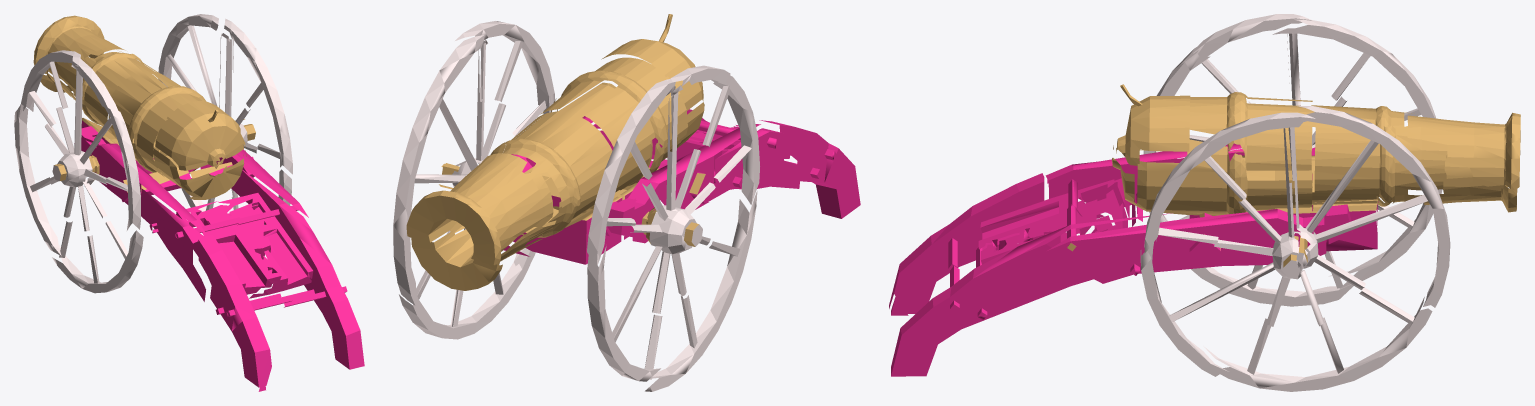
File: cannon-explosion.glb
3 views of the same model, side by side, from view 1: azimuth 30°, elevation 25°; view 2: azimuth 150°, elevation 25°; view 3: azimuth 270°, elevation 25° (orthographic). The views are drawn at different scales.
Visible parts, largest first — view 1: cannon.008, cannon.052, cannon.002, cannon.007, cannon.048, cannon.016, cannon.027, cannon.055, cannon.030, cannon.013, cannon.070, cannon.022 (+21 smaller); view 2: cannon.016, cannon.030, cannon.010, cannon.007, cannon.052, cannon.006, cannon.022, cannon.038, cannon.057, cannon.019, cannon.070, cannon.055 (+25 smaller); view 3: cannon.008, cannon.034, cannon.003, cannon.052, cannon.016, cannon.024, cannon.007, cannon.010, cannon.002, cannon.057, cannon.013, cannon.048 (+21 smaller).
Boxes of the visible parts, x1,y1,x2,y2 form: cannon.008: (242, 170, 364, 369); cannon.052: (198, 234, 271, 387); cannon.002: (155, 101, 243, 170); cannon.007: (105, 71, 206, 162); cannon.048: (189, 207, 281, 294); cannon.016: (33, 15, 125, 93); cannon.027: (218, 193, 313, 298); cannon.055: (141, 188, 205, 301); cannon.030: (75, 52, 166, 124); cannon.013: (224, 18, 292, 174); cannon.070: (14, 104, 61, 255); cannon.022: (52, 230, 143, 293); cannon.016: (406, 153, 553, 265); cannon.030: (503, 82, 616, 207); cannon.010: (393, 35, 485, 305); cannon.007: (540, 57, 687, 155); cannon.052: (759, 120, 860, 218); cannon.006: (411, 224, 553, 290); cannon.022: (645, 191, 757, 391); cannon.038: (587, 79, 675, 264); cannon.057: (399, 250, 530, 339); cannon.019: (646, 85, 696, 254); cannon.070: (587, 246, 660, 381); cannon.055: (715, 128, 801, 189); cannon.008: (891, 213, 1172, 376); cannon.034: (1046, 209, 1326, 283); cannon.003: (1314, 123, 1447, 204); cannon.052: (889, 173, 1044, 313); cannon.016: (1312, 112, 1520, 190); cannon.024: (1137, 139, 1312, 215); cannon.007: (1189, 92, 1312, 170); cannon.010: (1292, 106, 1450, 307); cannon.002: (1116, 95, 1190, 165); cannon.057: (1203, 297, 1432, 391); cannon.013: (1144, 112, 1315, 253); cannon.048: (978, 179, 1114, 249).
Size of the model in its own units: 3.22 by 3.6 by 7.21.
